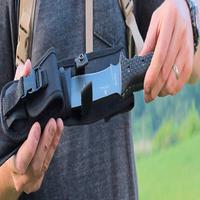knife: (12, 52, 200, 111)
